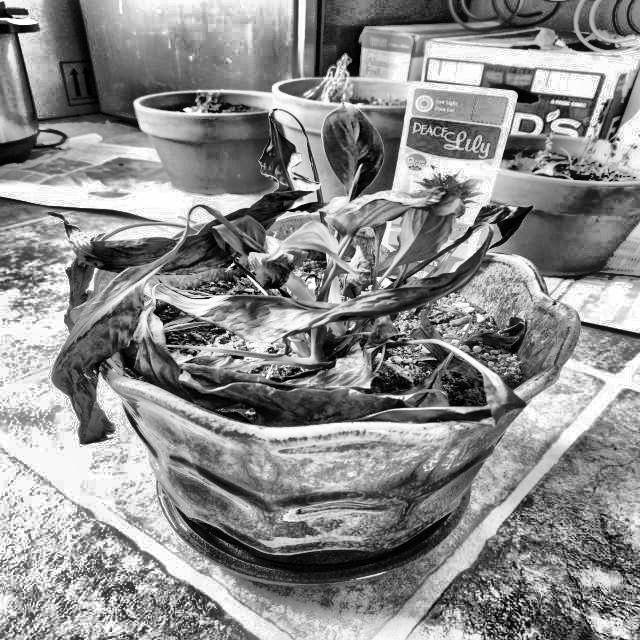plants: (40, 110, 572, 588), (60, 220, 206, 449)
